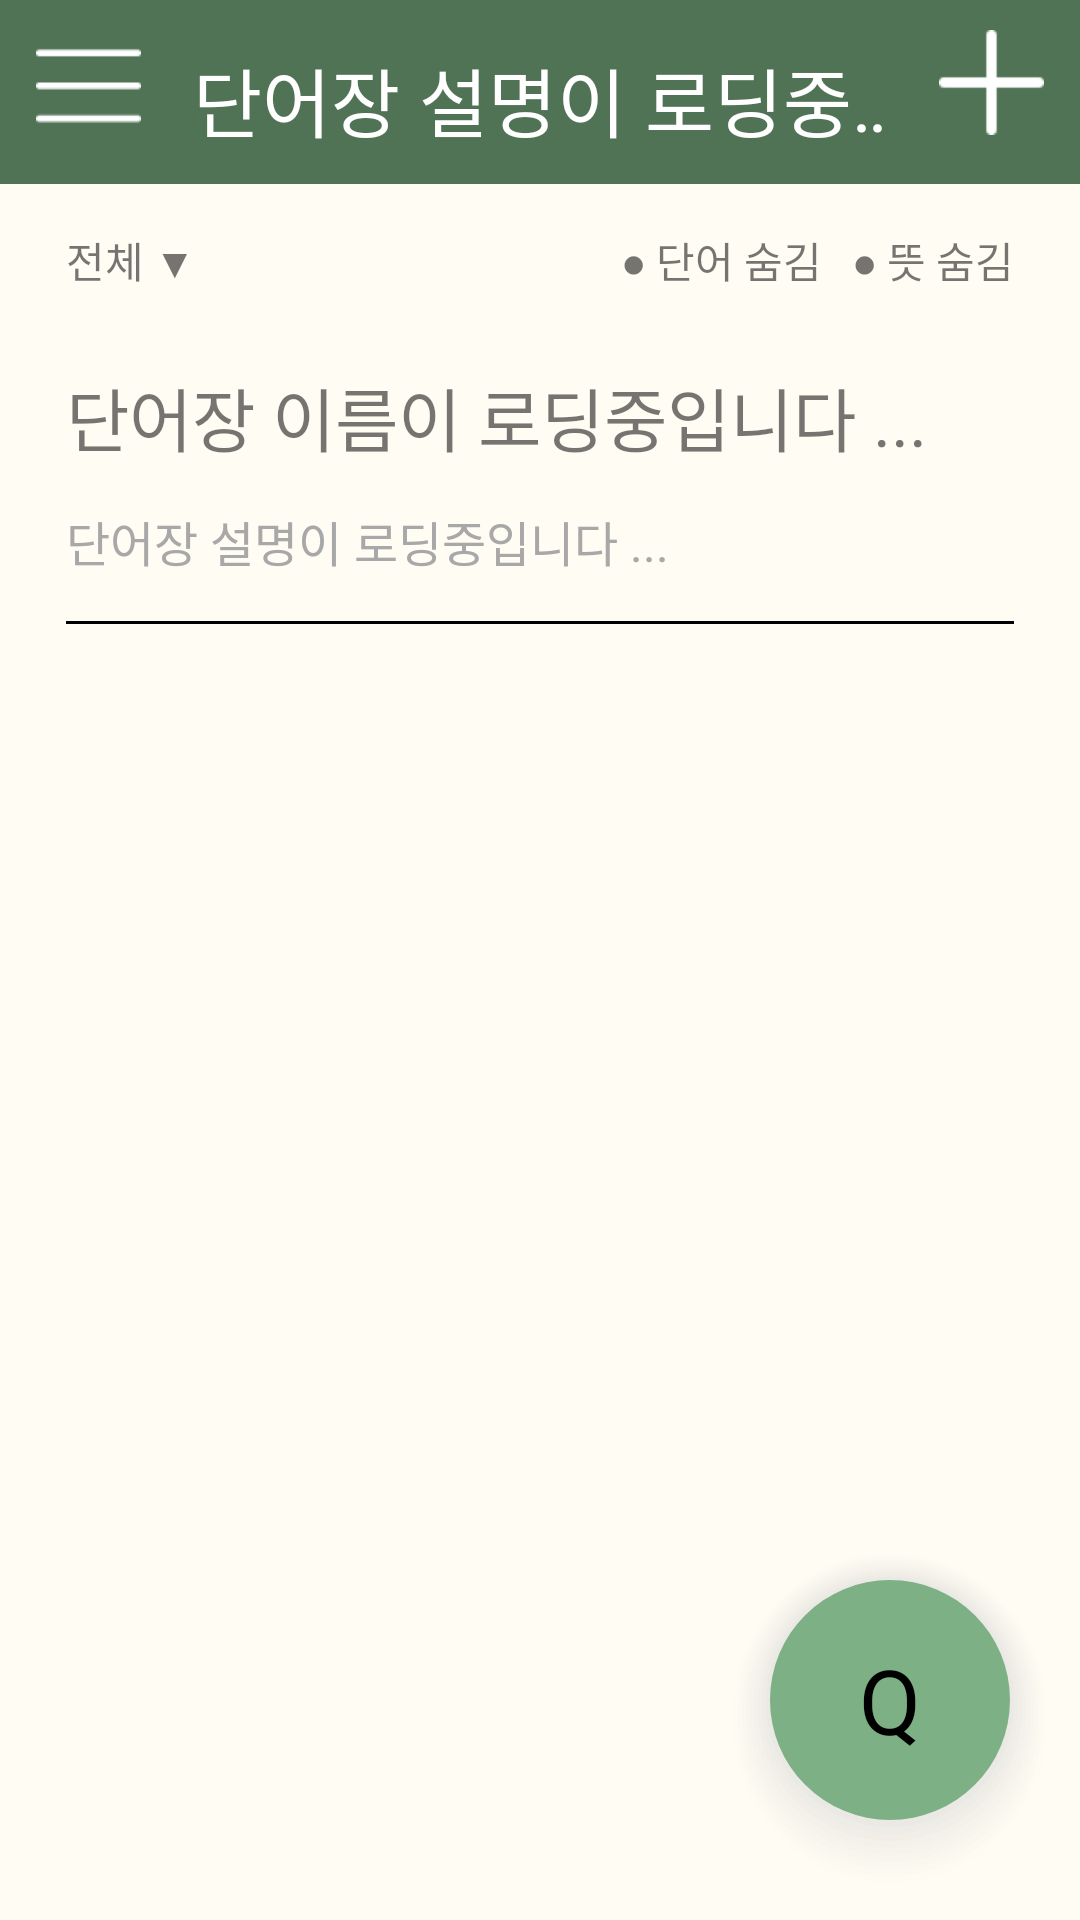

Named icons in this screenshot (1080px x 1920px) and their bounding boxes, [x1,y1,x2,y2]:
hamburger bar: [36,49,141,123]
plus: [939,30,1044,135]
